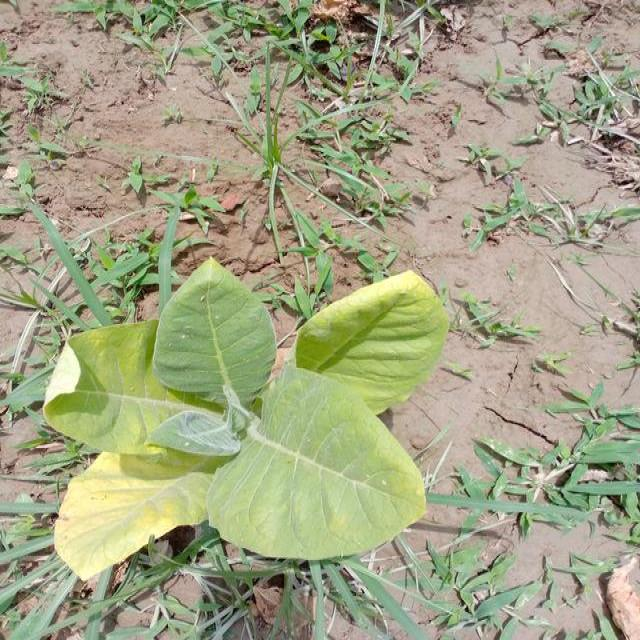crop: (47, 253, 446, 584)
